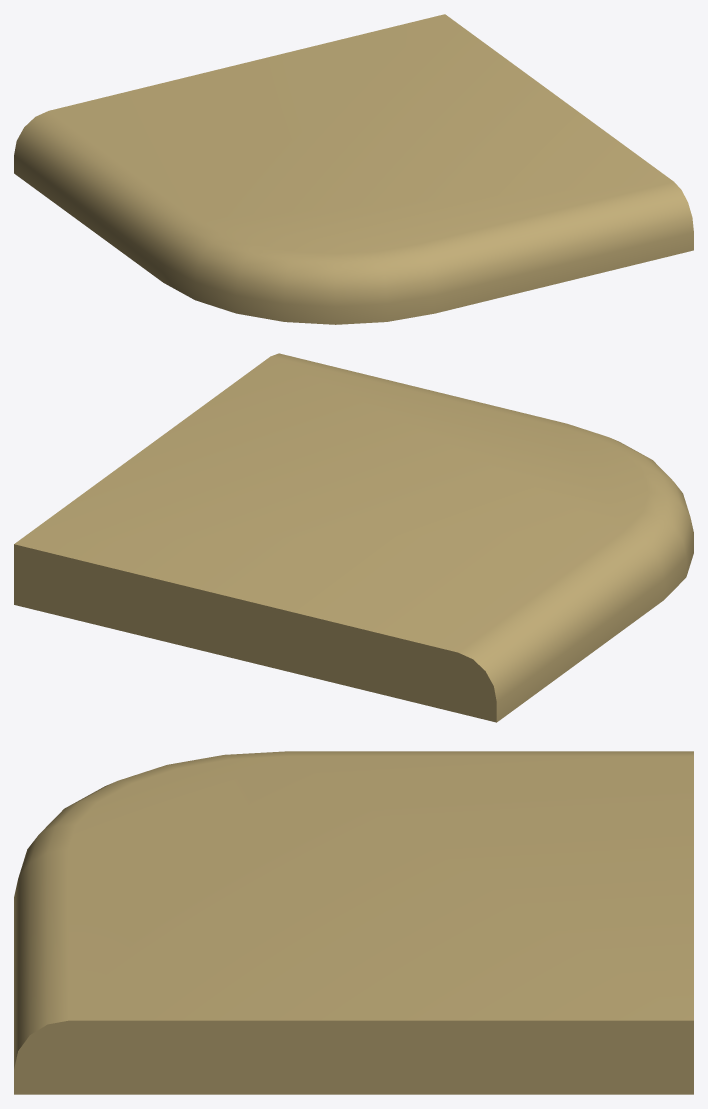
Rendered from Dark_Soil_Tile_1.fbx.
3 views of the same model, one above another, from view 1: azimuth 30°, elevation 25°; view 2: azimuth 150°, elevation 25°; view 3: azimuth 270°, elevation 25° (orthographic). The views are drawn at different scales.
Visible parts, largest first — view 1: Corner_1; view 2: Corner_1; view 3: Corner_1.
Boxes of the visible parts, <box> form: Corner_1: <box>14,14,693,324</box>; Corner_1: <box>14,353,693,722</box>; Corner_1: <box>14,751,693,1094</box>.
Bounding box in the file's own units: 0.5 × 0.5 × 0.06.
